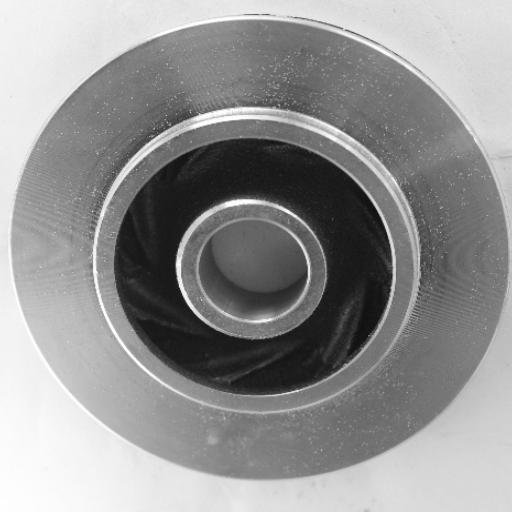polished_casting: (9, 15, 509, 484)
